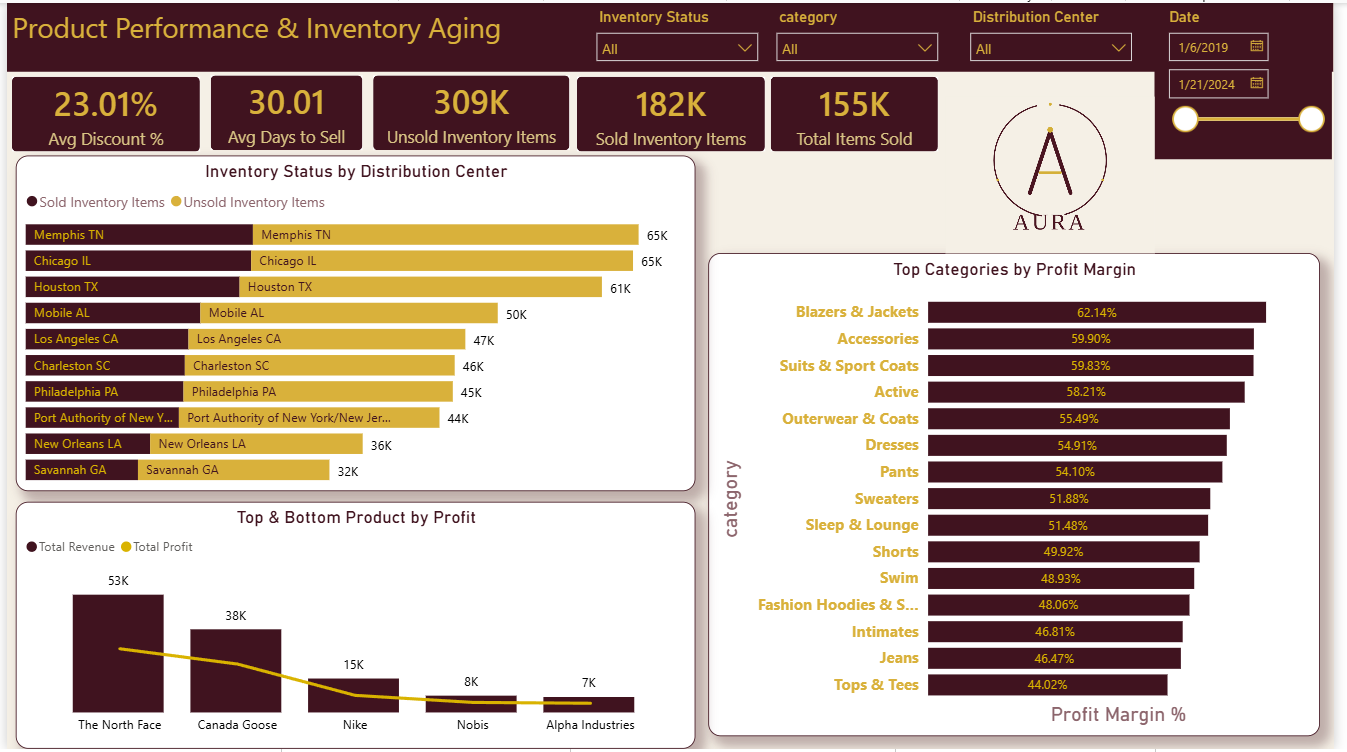

The page's visual inventory and layout, read from the dashboard file:
{"tool":"powerbi","page":{"name":"Product Performance & Inventory Aging","canvas":[1280,720],"ordinal":2},"visuals":[{"type":"shape","box":[1107.5,61.5,171.3,89.3],"z":0},{"type":"clusteredBarChart","title":"Top Categories by Profit Margin","fields":{"Category":["Dim_Products.category"],"Y":["Key_Measures.Profit Margin %"]},"box":[676.5,241.5,590.1,466.6],"z":1000},{"type":"barChart","title":"Inventory Status by Distribution Center","fields":{"Y":["Key_Measures.Sold Inventory Items","Key_Measures.Unsold Inventory Items"],"Category":["Dim_Distribution.name"]},"box":[8.2,146.8,655.9,323.8],"z":2000},{"type":"lineClusteredColumnComboChart","title":"Top & Bottom Product by Profit","fields":{"Y":["Key_Measures.Total Revenue"],"Y2":["Key_Measures.Total Profit"],"Category":["Dim_Products.brand"]},"box":[8.2,481.6,655.9,238.8],"z":3000},{"type":"shape","box":[0,0,1280,66.4],"z":4000},{"type":"cardVisual","fields":{"Data":["Key_Measures.Avg Discount %"]},"box":[0,66.4,191.8,82],"z":5000},{"type":"cardVisual","fields":{"Data":["Key_Measures.Avg Days to Sell"]},"box":[191.8,65.1,156.8,82],"z":6000},{"type":"cardVisual","fields":{"Data":["Key_Measures.Unsold Inventory Items"]},"box":[348.7,65.1,199.1,82],"z":7000},{"type":"cardVisual","fields":{"Data":["Key_Measures.Sold Inventory Items"]},"box":[545.3,66.4,191.8,82],"z":8000},{"type":"cardVisual","fields":{"Data":["Key_Measures.Total Items Sold"]},"box":[732.3,66.4,171.3,82],"z":9000},{"type":"image","box":[906,90.5,201.5,150.8],"z":10000},{"type":"textbox","box":[0,0,486.2,61.5],"z":11000},{"type":"slicer","fields":{"Values":["Dim_Distribution.name"]},"box":[919.3,0,176.1,74.8],"z":12000},{"type":"slicer","fields":{"Values":["Dim_Products.category"]},"box":[732.3,0,176.1,66.4],"z":13000},{"type":"slicer","fields":{"Values":["Fact_Orders.status"]},"box":[558.6,0,176.1,66.4],"z":14000},{"type":"slicer","fields":{"Values":["Dim_Date.Date"]},"box":[1108.7,0,171.3,155.6],"z":15000}]}

Visuals, with their boxes in screenshot pixels (x1, y1, x2, y2), scaled from the page's 1280x720 canvas onto the 1347x752 screenshot:
shape: bbox=[1165, 64, 1346, 158]
"Top Categories by Profit Margin" clusteredBarChart: bbox=[712, 252, 1333, 740]
"Inventory Status by Distribution Center" barChart: bbox=[9, 153, 699, 492]
"Top & Bottom Product by Profit" lineClusteredColumnComboChart: bbox=[9, 503, 699, 751]
shape: bbox=[0, 0, 1346, 69]
cardVisual - Key_Measures.Avg Discount %: bbox=[0, 69, 202, 155]
cardVisual - Key_Measures.Avg Days to Sell: bbox=[202, 68, 367, 154]
cardVisual - Key_Measures.Unsold Inventory Items: bbox=[367, 68, 576, 154]
cardVisual - Key_Measures.Sold Inventory Items: bbox=[574, 69, 776, 155]
cardVisual - Key_Measures.Total Items Sold: bbox=[771, 69, 951, 155]
image: bbox=[953, 95, 1165, 252]
textbox: bbox=[0, 0, 512, 64]
slicer - Dim_Distribution.name: bbox=[967, 0, 1153, 78]
slicer - Dim_Products.category: bbox=[771, 0, 956, 69]
slicer - Fact_Orders.status: bbox=[588, 0, 773, 69]
slicer - Dim_Date.Date: bbox=[1167, 0, 1346, 163]
